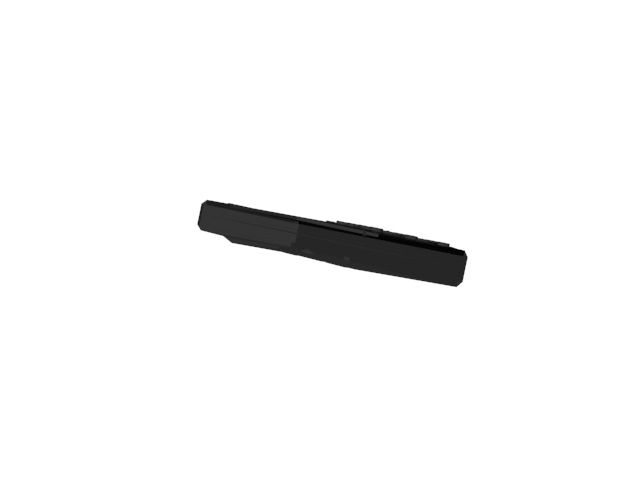mobile_phone: (193, 193, 472, 288)
